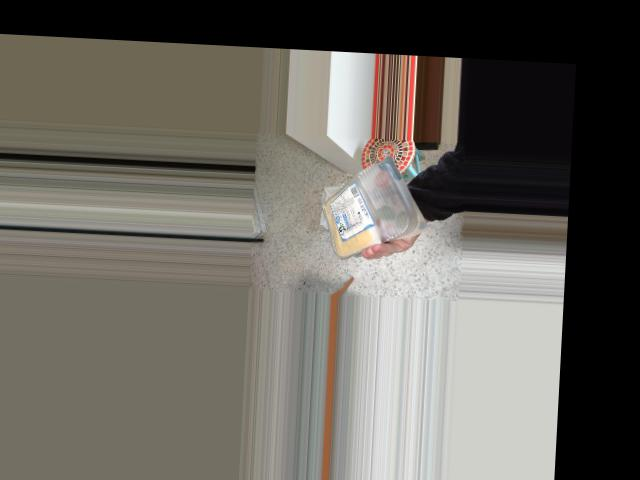cheese: (312, 151, 423, 249)
